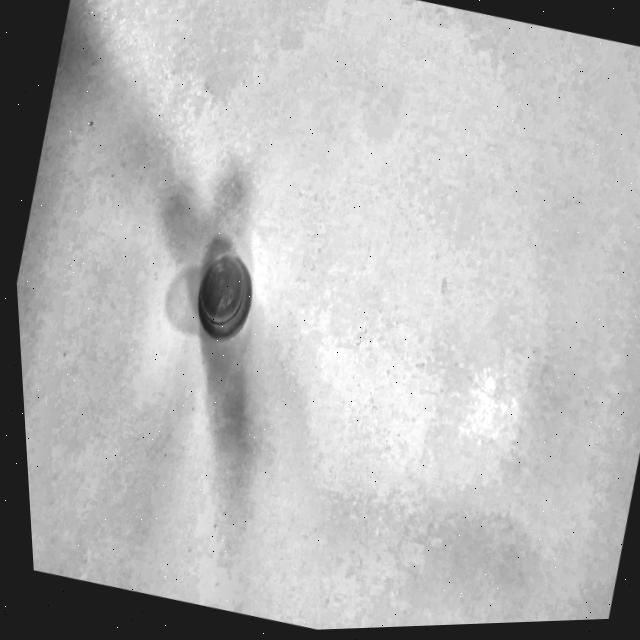white-pawn: (159, 199, 283, 361)
